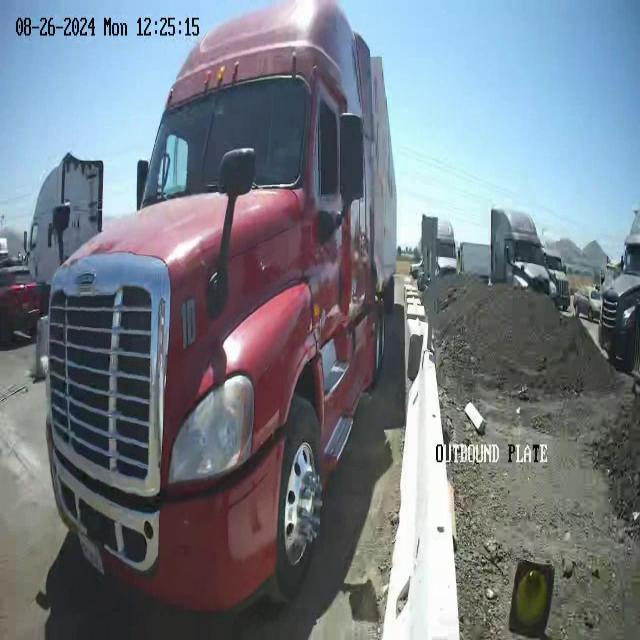TRUCK_CONTAINER: (42, 1, 398, 615)
